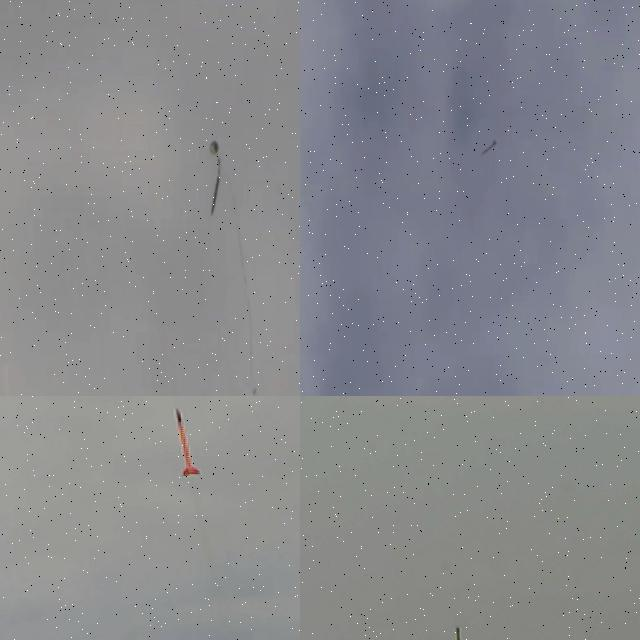Rocket: (175, 408, 202, 477), (482, 140, 496, 156), (454, 627, 466, 640)
